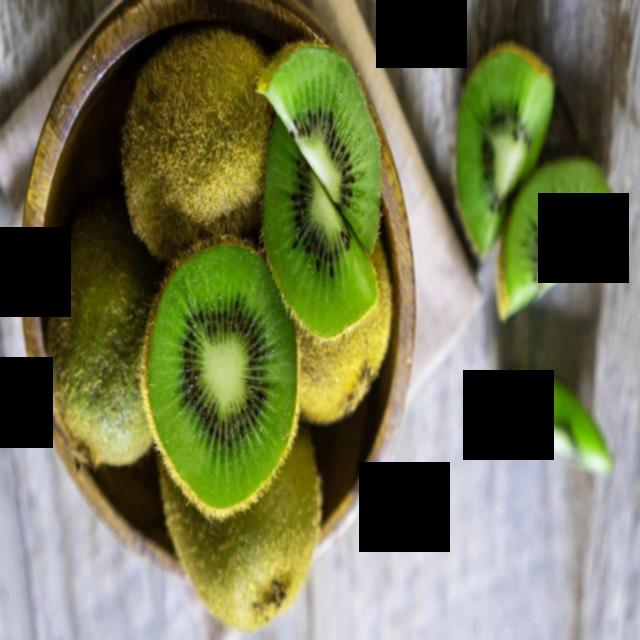kiwi: (112, 38, 269, 258), (165, 432, 325, 630), (39, 253, 149, 465), (316, 250, 373, 429)
